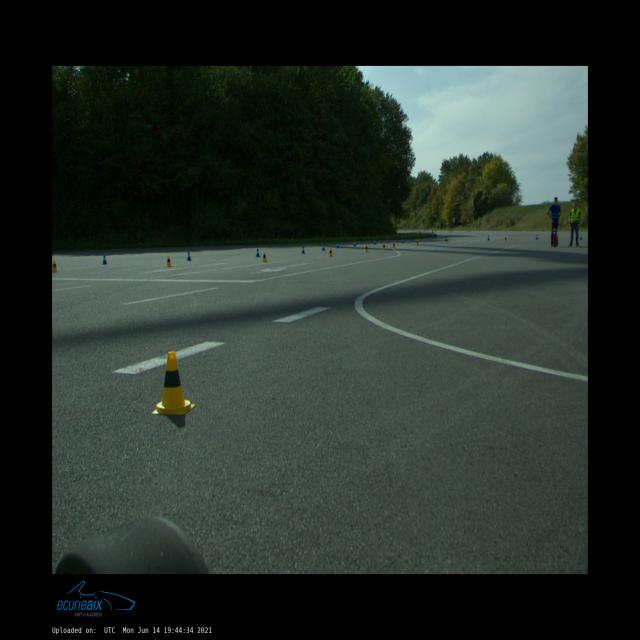blue_cone: (186, 251, 192, 261), (102, 255, 108, 265), (302, 246, 306, 254), (256, 249, 260, 257), (535, 234, 538, 240), (353, 241, 356, 247), (336, 242, 339, 248), (322, 245, 325, 250), (580, 234, 582, 240), (374, 239, 376, 245), (488, 236, 490, 240), (402, 238, 404, 242)
yellow_cone: (152, 352, 195, 414), (52, 260, 59, 272), (166, 256, 172, 267), (262, 252, 268, 262), (328, 248, 334, 256), (382, 243, 386, 250), (365, 245, 369, 252), (392, 242, 396, 248), (416, 240, 419, 246), (504, 236, 506, 242), (446, 238, 448, 242)
